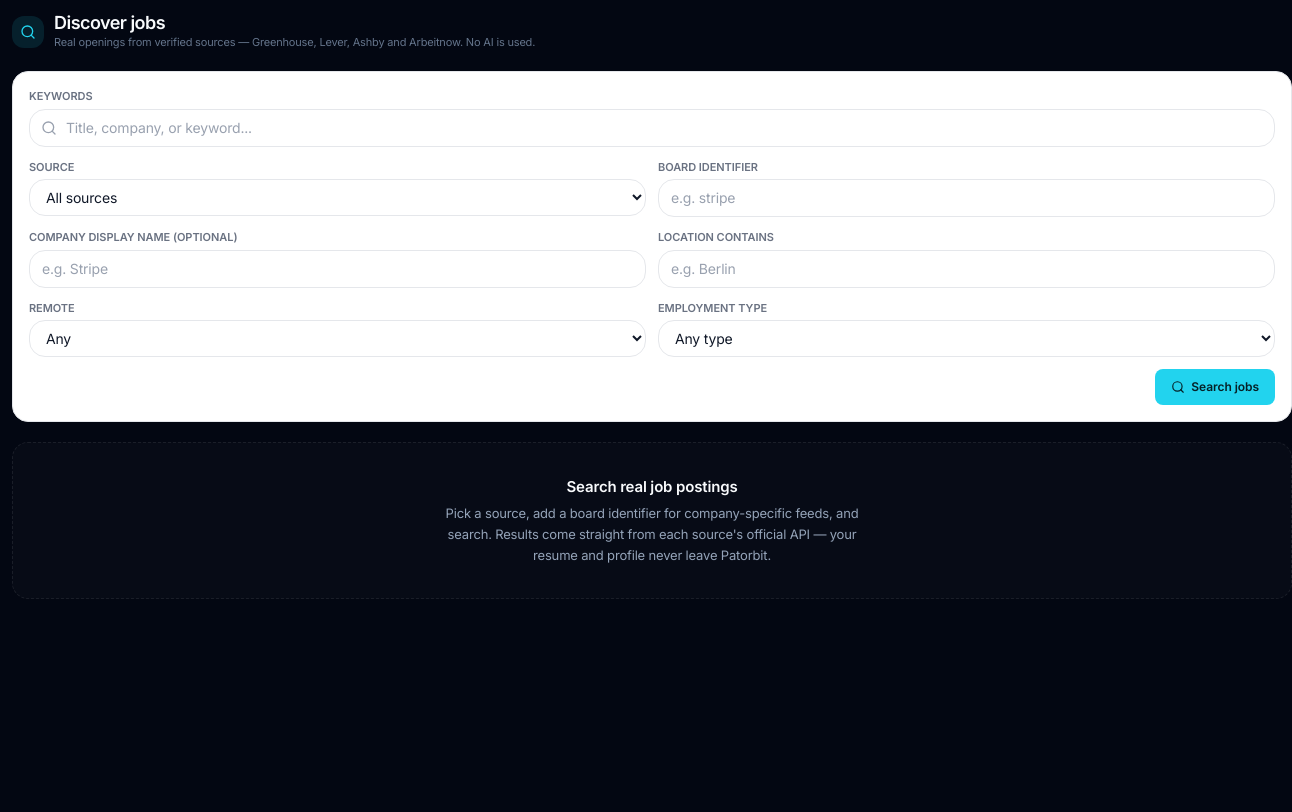
Test: JobDiscoveryPanel › renders the empty state for zero results without claiming an error
Step 1. Click the button "Search jobs" → (1215, 387), box [1155, 369, 1275, 405]
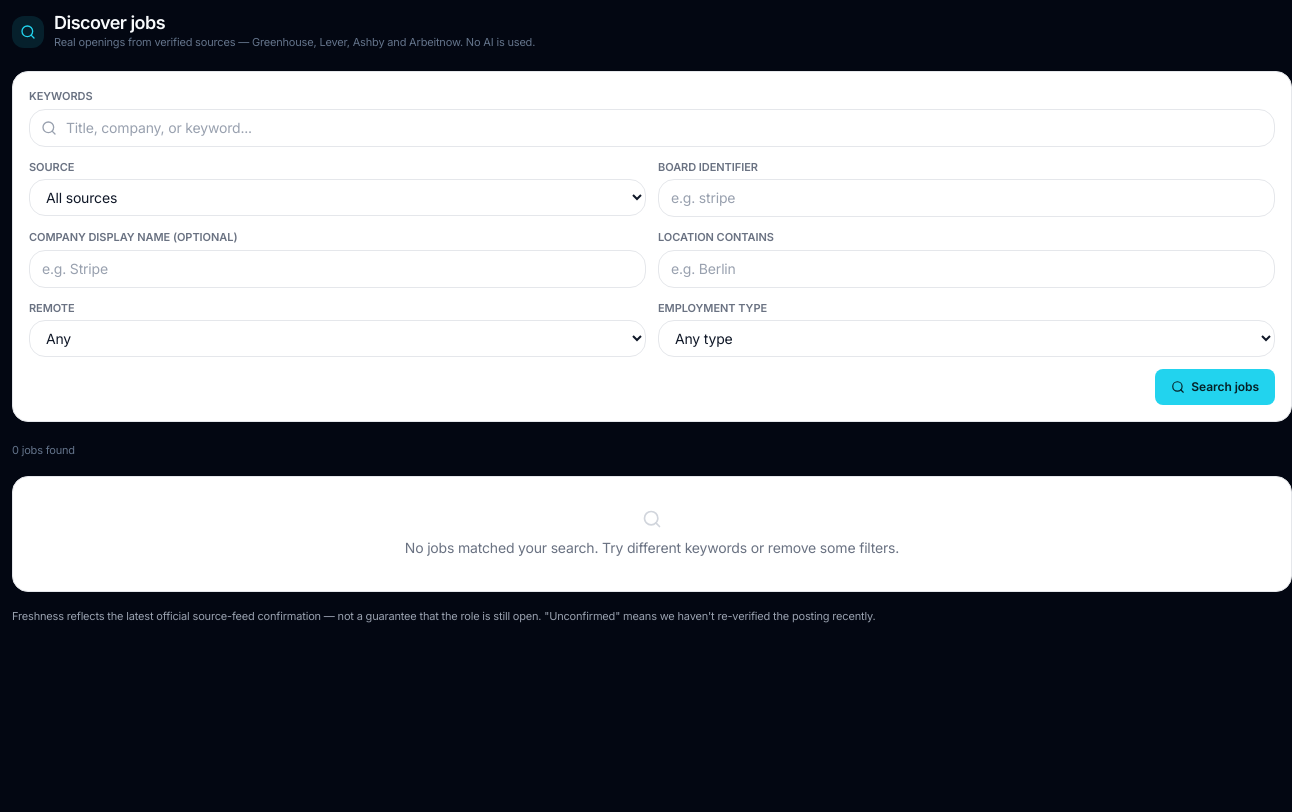
Check: the text "0 jobs found" is shown, box [12, 443, 75, 457]
Check: the text "No jobs matched your search." is shown, box [405, 539, 899, 556]
